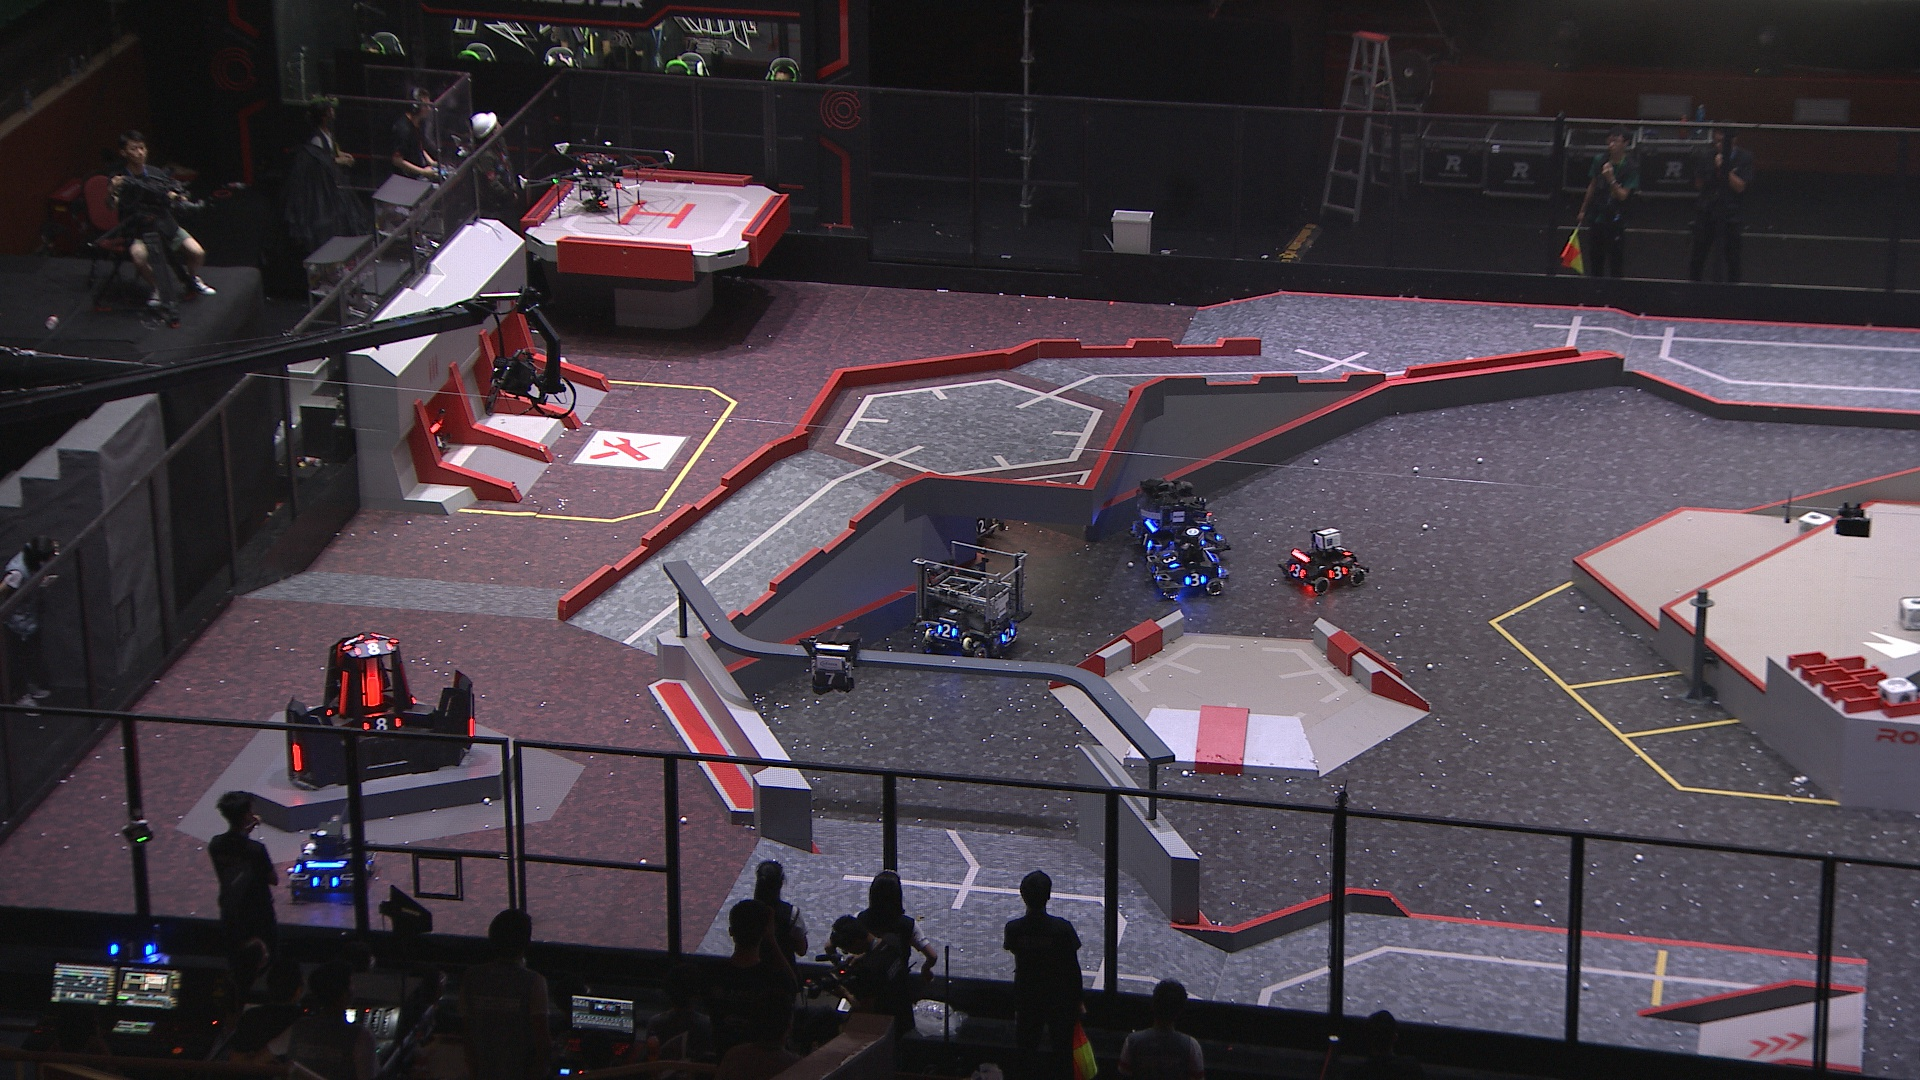armor: (359, 665, 386, 712), (363, 717, 404, 736), (351, 640, 394, 655), (339, 673, 352, 723), (310, 876, 342, 895), (814, 670, 845, 688), (289, 741, 305, 775), (1286, 560, 1307, 582), (1182, 572, 1207, 589), (936, 622, 959, 641), (1139, 529, 1155, 553), (1328, 564, 1349, 582), (1160, 553, 1182, 568), (998, 626, 1015, 645), (465, 716, 477, 741), (433, 433, 448, 451), (975, 518, 992, 534), (1150, 564, 1163, 583)
base: (284, 629, 483, 793)
car: (913, 542, 1026, 662), (906, 447, 1004, 543), (287, 818, 378, 909), (1126, 475, 1216, 555), (1276, 527, 1367, 597), (1145, 526, 1229, 599), (380, 406, 451, 462)
watcher: (803, 629, 862, 698)
